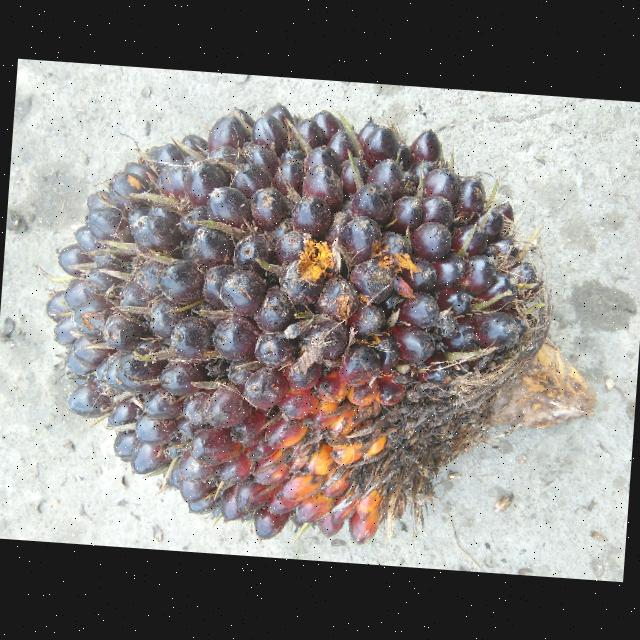Unripe: (44, 97, 556, 544)
